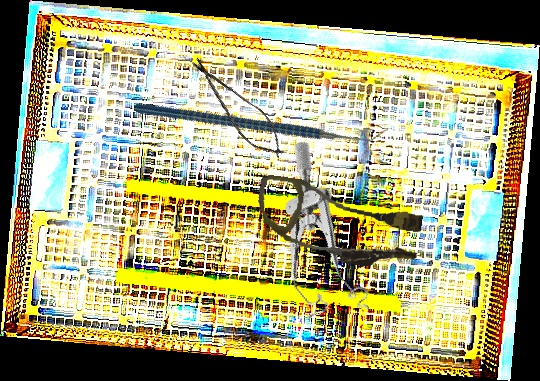Cannula: (251, 173, 426, 274)
Chopper: (133, 21, 389, 218)
Micro Scissor: (181, 49, 294, 167)
Speculum: (236, 139, 386, 335)
